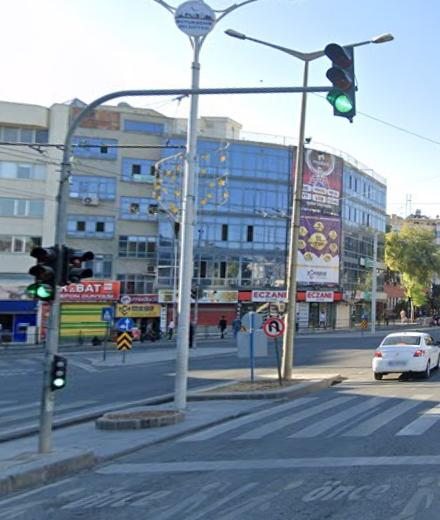greenlight: (321, 39, 357, 119), (26, 245, 57, 302)
